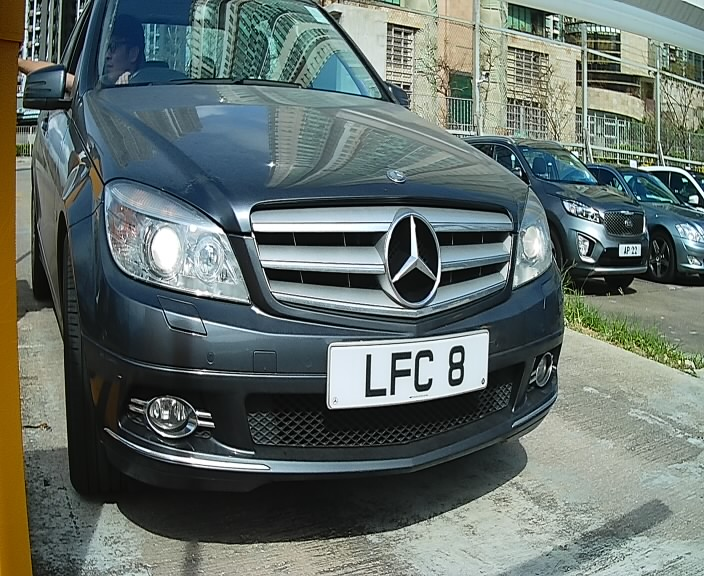Car: (41, 11, 594, 524)
License Plate: (326, 324, 501, 412)
